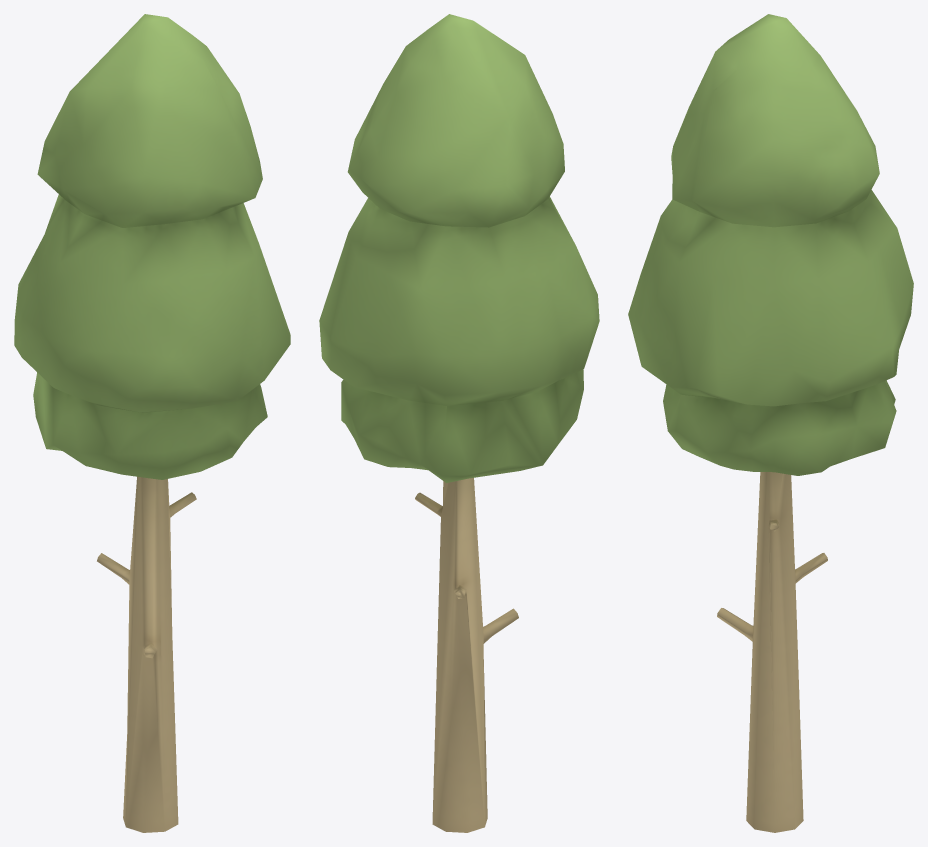
The picture shows the model from 3 angles, left to right: view 1: azimuth 30°, elevation 25°; view 2: azimuth 150°, elevation 25°; view 3: azimuth 270°, elevation 25°; orthographic projection.
Visible parts, largest first — view 1: Sosna; view 2: Sosna; view 3: Sosna.
Boxes of the visible parts, <box> form: Sosna: <box>14,14,290,832</box>; Sosna: <box>319,14,599,832</box>; Sosna: <box>628,14,913,832</box>.
Bounding box in the file's own units: 6.16 × 20.37 × 6.57.
Materials: 1 (1 with a texture image).
